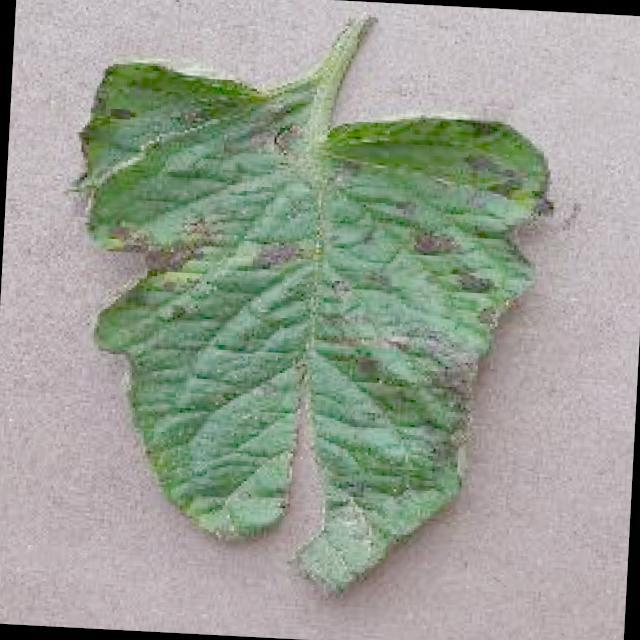Tomato Early blight leaf: (48, 48, 552, 610)
